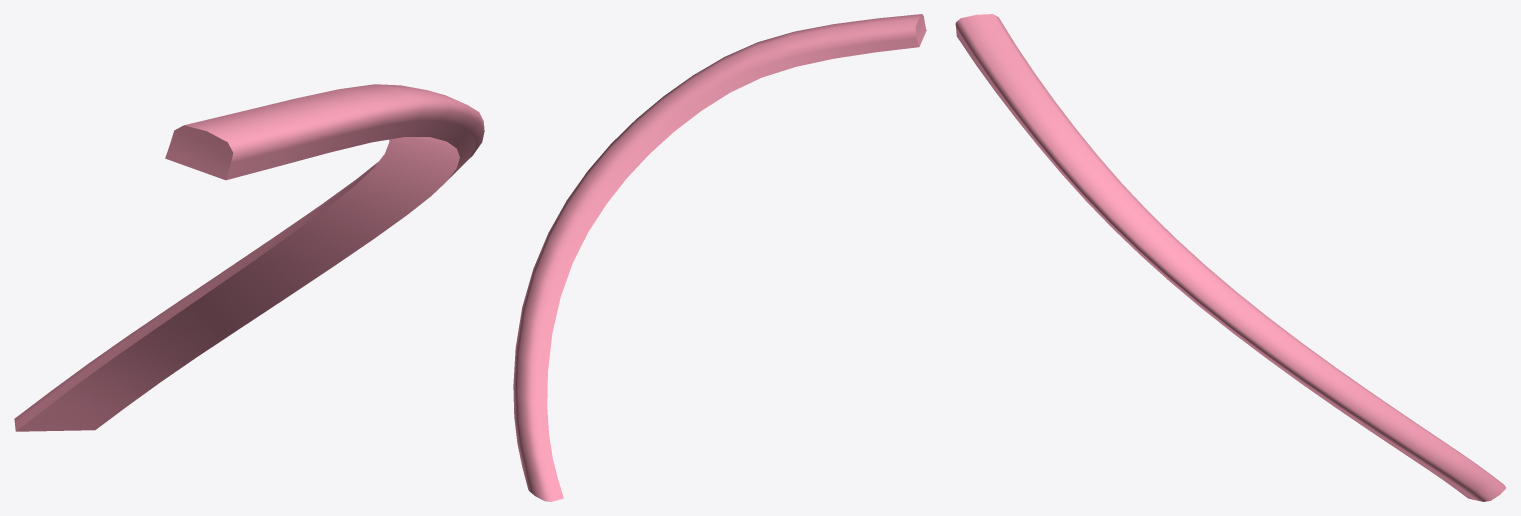
The picture shows the model from 3 angles, left to right: view 1: azimuth 30°, elevation 25°; view 2: azimuth 150°, elevation 25°; view 3: azimuth 270°, elevation 25°; orthographic projection. The views are drawn at different scales.
Parts seen in each view (by area): view 1: Plane361; view 2: Plane361; view 3: Plane361.
Boxes of the visible parts, <box> form: Plane361: <box>14,84,484,431</box>; Plane361: <box>513,14,926,501</box>; Plane361: <box>955,14,1505,501</box>.
Size of the model in its own units: 0.17 by 0.2236 by 0.2828.
